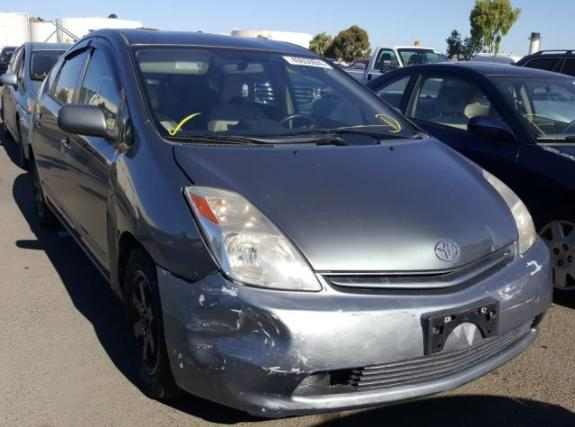Back-door: (33, 36, 95, 203)
Back-wheel: (31, 163, 58, 223)
Back-window: (46, 48, 90, 106)
Fender: (106, 120, 220, 302)
Front-bumper: (156, 233, 553, 417)
Front-door: (60, 36, 134, 257)
Front-wheel: (125, 246, 183, 399)
Front-window: (77, 48, 121, 119)
Grille: (319, 242, 515, 295)
Headlight: (182, 187, 322, 291), (483, 169, 536, 254)
Hood: (173, 136, 519, 271)
Mirror: (58, 105, 124, 148)
Quarter-panel: (27, 81, 46, 186)
Rocker-panel: (41, 181, 112, 286)
Roof: (106, 29, 325, 59)
Windshield: (128, 46, 420, 144)
